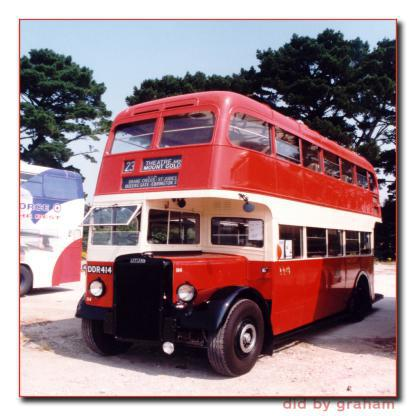bus: (75, 92, 382, 378), (21, 164, 85, 298)
